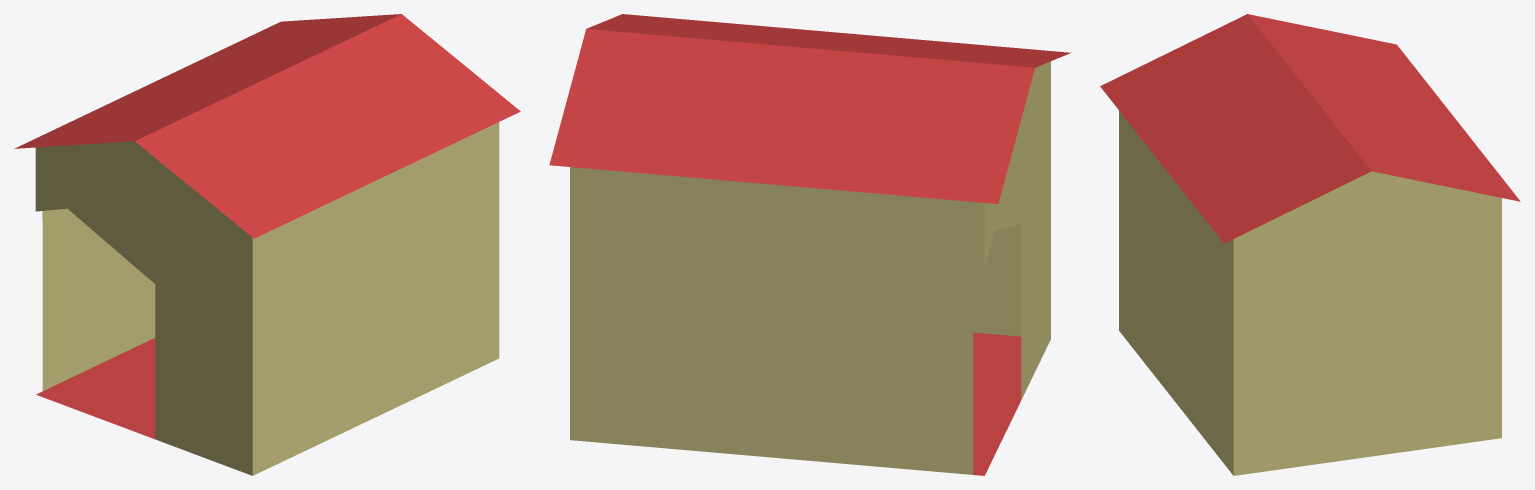
3 renders of one model, left to right at view 1: azimuth 30°, elevation 25°; view 2: azimuth 150°, elevation 25°; view 3: azimuth 270°, elevation 25°, orthographic. The views are drawn at different scales.
Bounding box in the file's own units: 15.7 × 14.03 × 10.73.
